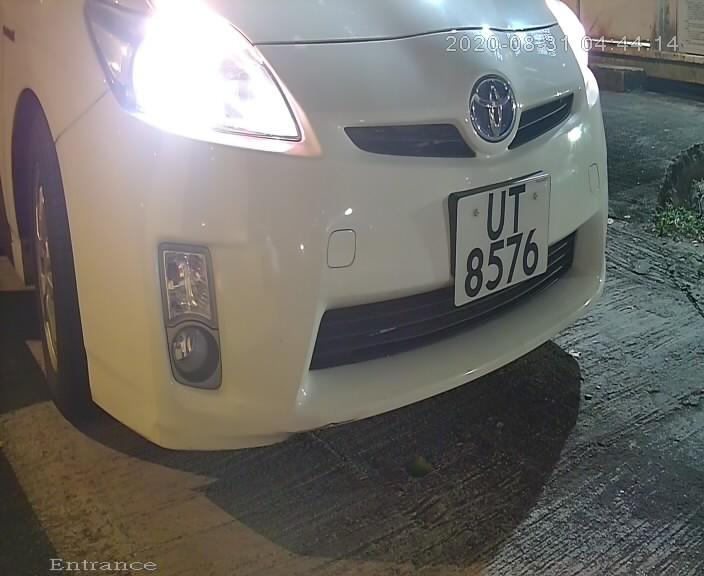License Plate: (441, 163, 554, 317)
